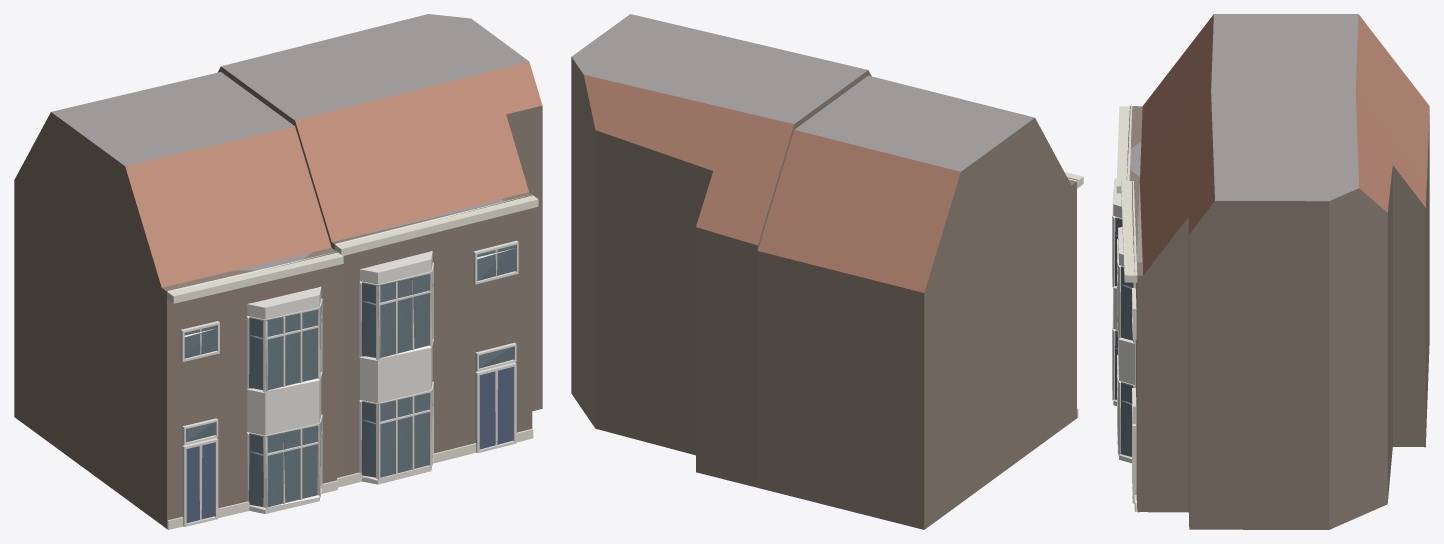
The model's file is chunk-face-transvaalkade-103-105.lod2.glb.
The picture shows the model from 3 angles, left to right: view 1: azimuth 30°, elevation 25°; view 2: azimuth 150°, elevation 25°; view 3: azimuth 270°, elevation 25°; orthographic projection. The views are drawn at different scales.
Parts seen in each view (by area): view 1: lod2; view 2: lod2; view 3: lod2.
Boxes of the visible parts, x1,y1,x2,y2 form: lod2: [14, 14, 542, 529]; lod2: [571, 14, 1083, 529]; lod2: [1112, 14, 1429, 529].
Size of the model in its own units: 14.34 by 11.41 by 9.99.
